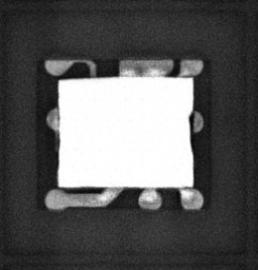DIE_BROKEN: (187, 109, 196, 154)
